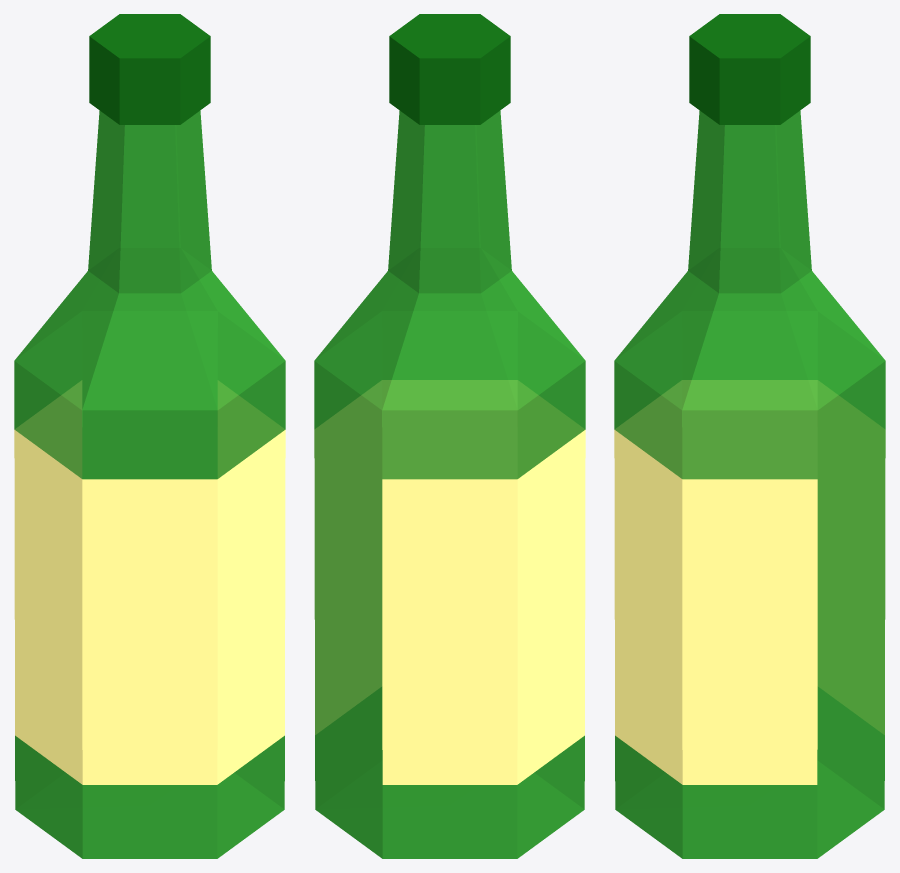
The model's file is SojuBottle.fbx.
3 views of the same model, side by side, from view 1: azimuth 30°, elevation 25°; view 2: azimuth 150°, elevation 25°; view 3: azimuth 270°, elevation 25° (orthographic).
Parts seen in each view (by area): view 1: Circle.000; view 2: Circle.000; view 3: Circle.000.
Boxes of the visible parts, <box> form: Circle.000: <box>14,14,285,858</box>; Circle.000: <box>314,14,585,858</box>; Circle.000: <box>614,14,885,858</box>.
Bounding box in the file's own units: 212 × 769 × 244.
